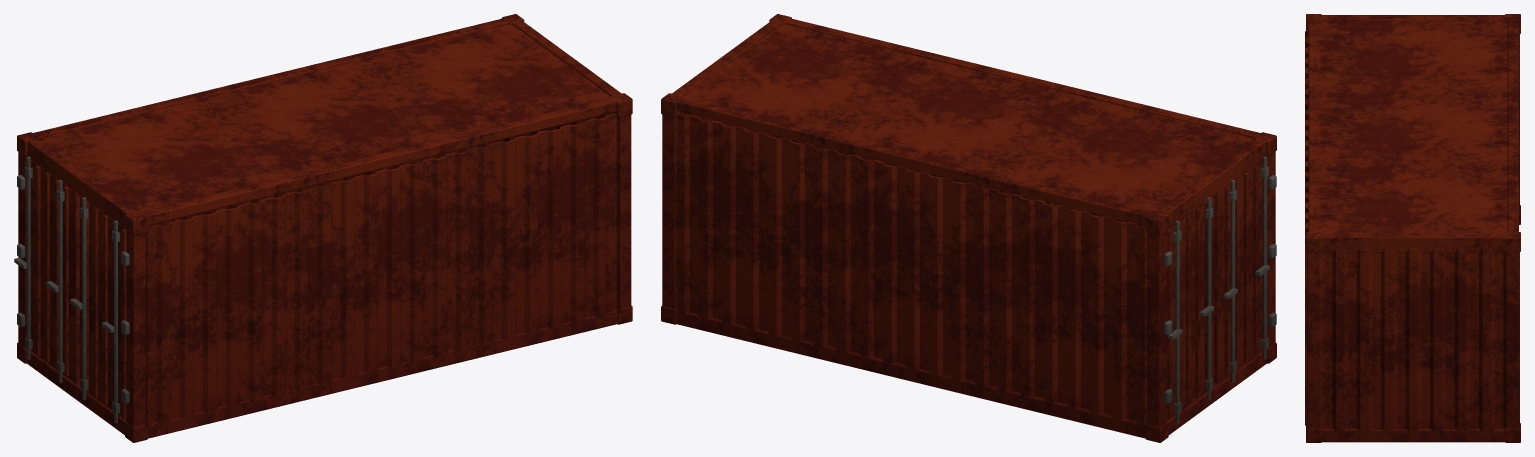
Rendered from prop_container.glb.
3 renders of one model, left to right at view 1: azimuth 30°, elevation 25°; view 2: azimuth 150°, elevation 25°; view 3: azimuth 270°, elevation 25°, orthographic. The views are drawn at different scales.
Visible parts, largest first — view 1: Walls, Frame, Doors, LockBars, Hinges; view 2: Walls, Frame, Doors, LockBars, Hinges; view 3: Frame, Walls.
Part boxes in pixels (box(x1,y1,x2,y2)): Walls: box(146, 113, 620, 427); Frame: box(17, 14, 632, 442); Doors: box(26, 159, 126, 420); LockBars: box(14, 156, 119, 423); Hinges: box(17, 175, 129, 403); Walls: box(676, 112, 1147, 425); Frame: box(661, 14, 1276, 442); Doors: box(1167, 159, 1267, 420); LockBars: box(1168, 156, 1269, 423); Hinges: box(1164, 175, 1276, 403); Frame: box(1306, 14, 1520, 442); Walls: box(1305, 31, 1518, 430).
Size of the model in its own units: 6.17 by 2.59 by 2.47.
2 materials, 2 textured.
